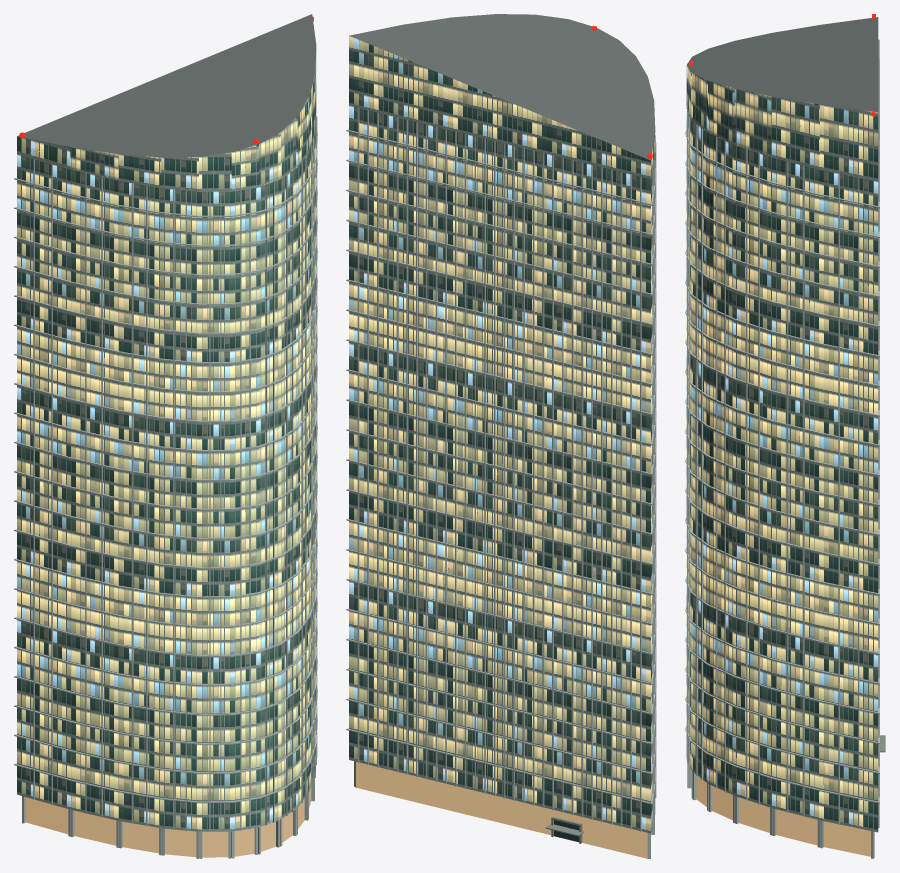
File: shiodome_city_center.glb
3 views of the same model, side by side, from view 1: azimuth 30°, elevation 25°; view 2: azimuth 150°, elevation 25°; view 3: azimuth 270°, elevation 25° (orthographic). The views are drawn at different scales.
Parts seen in each view (by area): view 1: shiodome_city_center; view 2: shiodome_city_center; view 3: shiodome_city_center.
Boxes of the visible parts, x1,y1,x2,y2 form: shiodome_city_center: [14, 14, 317, 858]; shiodome_city_center: [346, 14, 656, 858]; shiodome_city_center: [685, 14, 885, 858].
Bounding box in the file's own units: 92 × 216 × 52.5.
2 materials, 2 textured.
